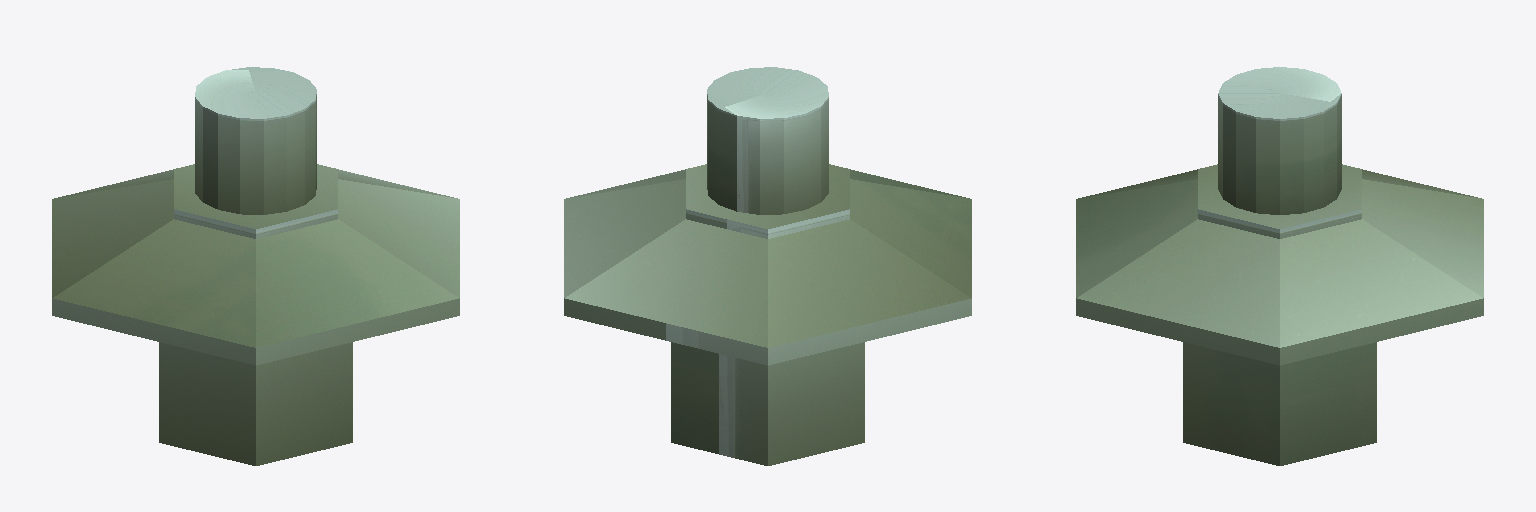
3 renders of one model, left to right at view 1: azimuth 30°, elevation 25°; view 2: azimuth 150°, elevation 25°; view 3: azimuth 270°, elevation 25°, orthographic.
Parts seen in each view (by area): view 1: Cylinder001, Cylinder002; view 2: Cylinder001, Cylinder002; view 3: Cylinder001, Cylinder002.
Part boxes in pixels (x1,y1,x2,y2): Cylinder001: (52,164,459,465); Cylinder002: (195,67,316,214); Cylinder001: (564,164,971,465); Cylinder002: (707,67,828,214); Cylinder001: (1076,164,1483,465); Cylinder002: (1218,67,1341,214).
Size of the model in its own units: 55.83 by 42.67 by 48.35.
2 materials, 1 textured.